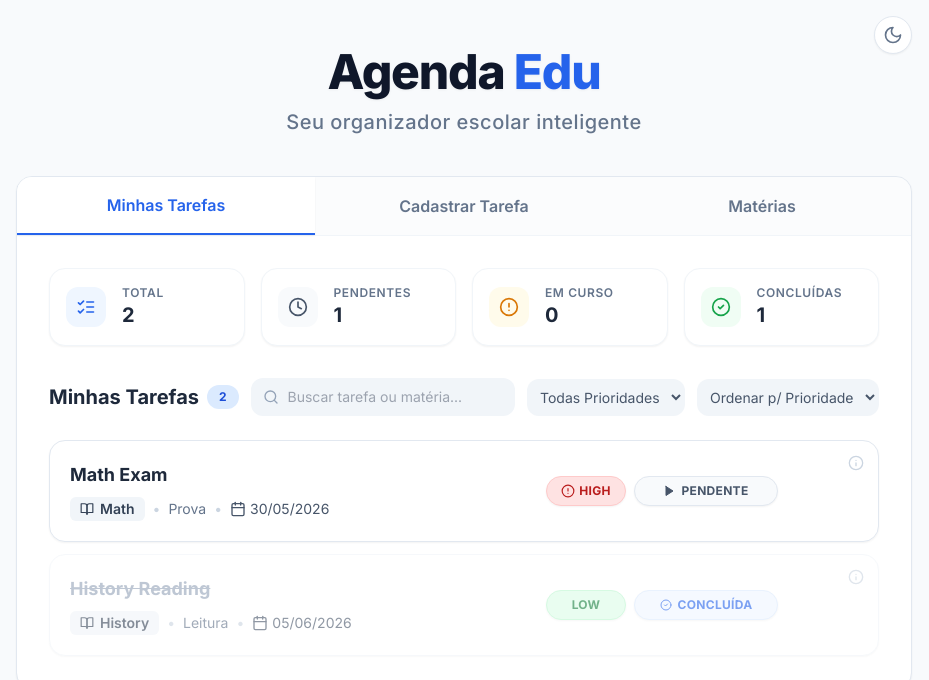
HomePage › filters tasks by search input
Type "Math" into the field with placeholder "Buscar tarefa ou matéria..." at (383, 397), box [250,378,515,416]
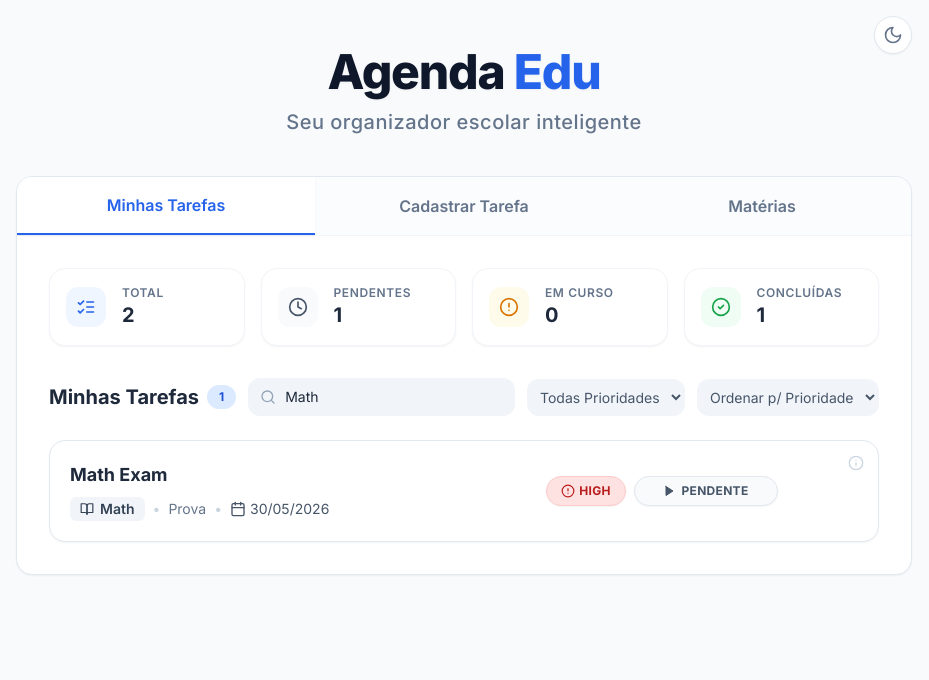
Expected: the heading "Math Exam" is shown, [70,464,168,485]
Expected: the heading "History Reading" is gone
